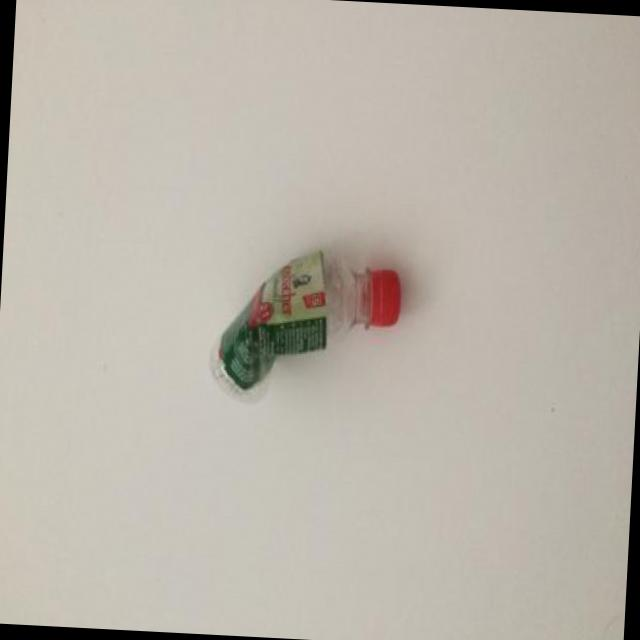Recycle: (210, 246, 403, 413)
